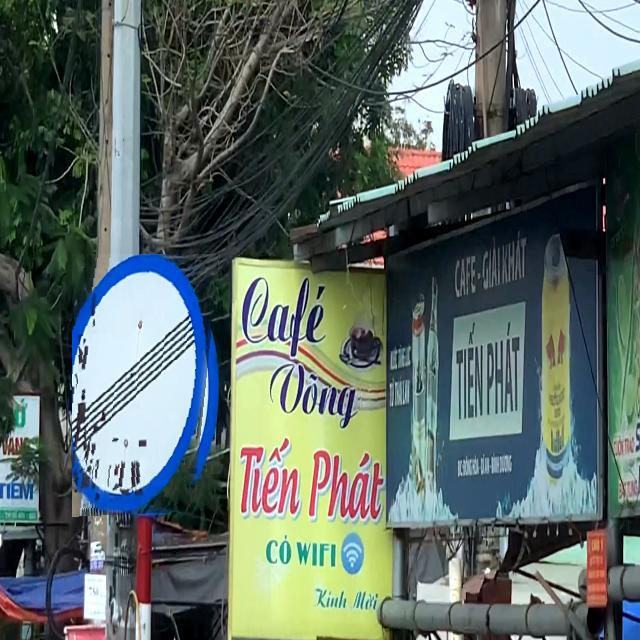DP-135: (72, 254, 220, 518)
